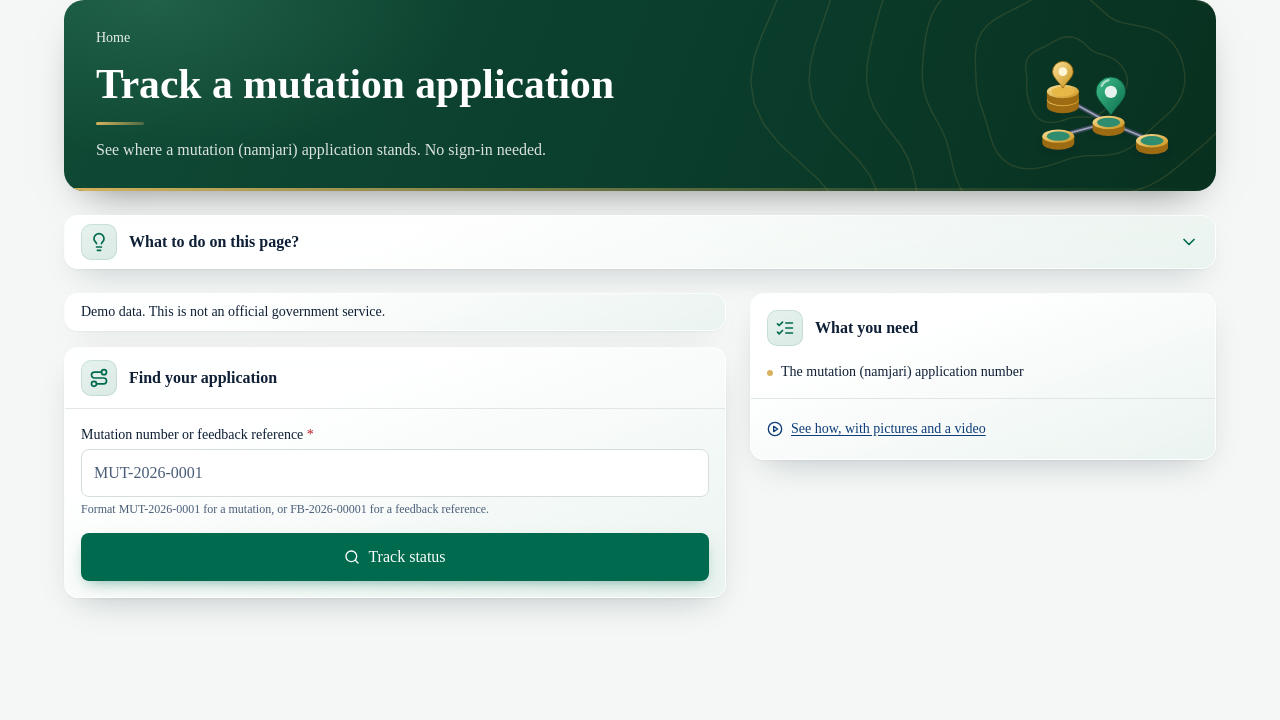
Scenario: TrackView › shows the outcome for a decided application and a skipped hearing
Type "MUT-2026-0010" into the field labelled "Mutation number or feedback reference *".
click(395, 473); type("MUT-2026-0010")  # box x1=81 y1=449 x2=709 y2=497
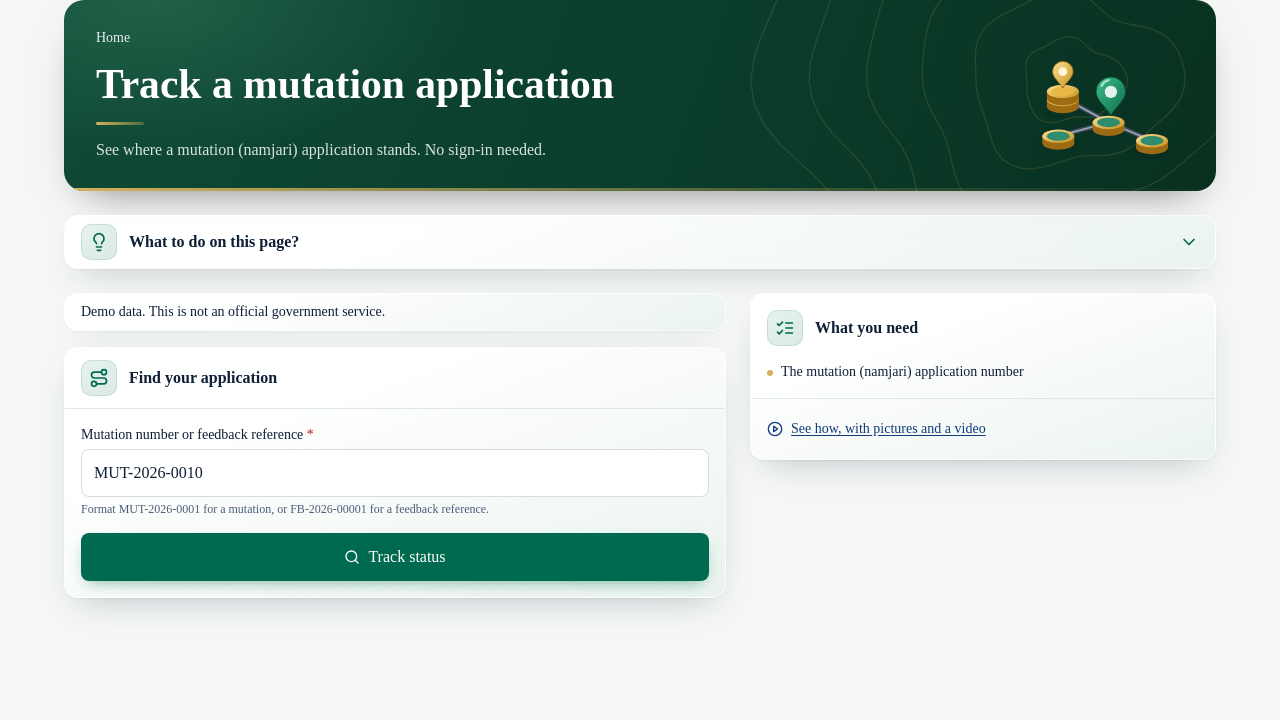
Click the button "Track status".
click(395, 557)  # box x1=81 y1=533 x2=709 y2=581
(page scrolled)
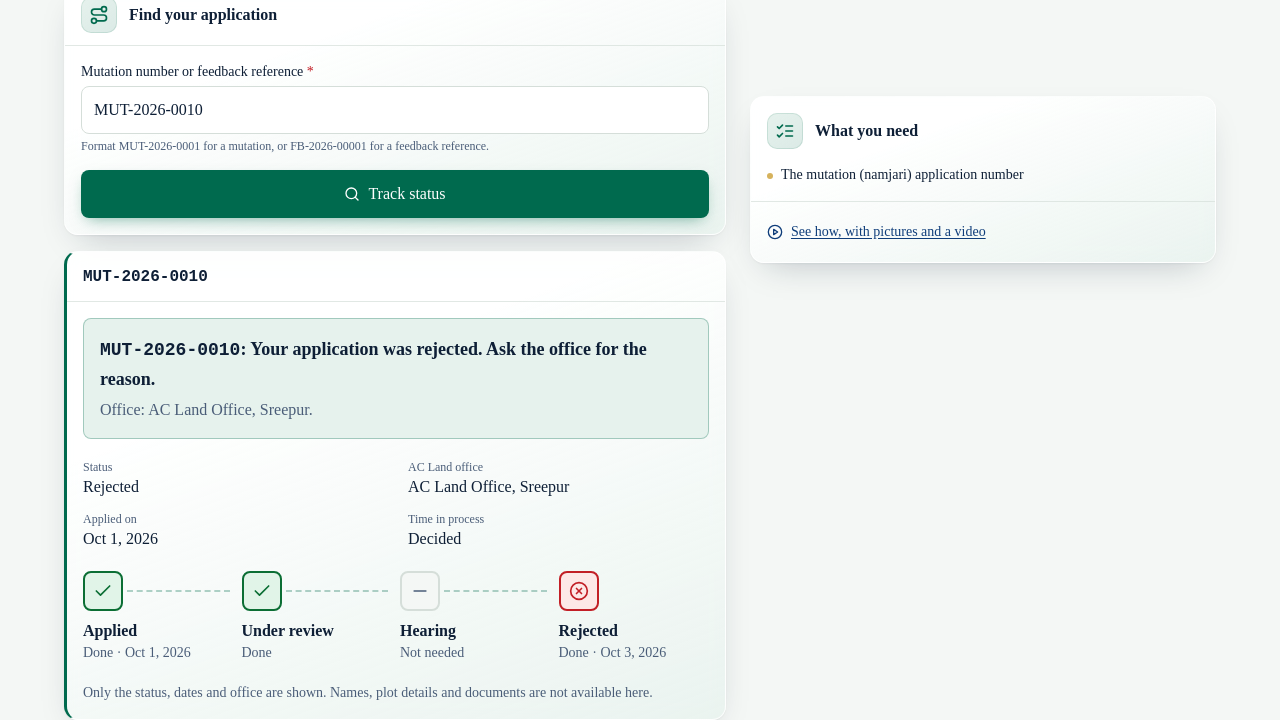
Now the element with test id "track-result" is shown, box x1=64 y1=251 x2=726 y2=719
Now the list item with test id "step-HEARING" shows "Not needed", box x1=400 y1=645 x2=464 y2=660
Now the list item with test id "step-DECIDED" shows "Rejected", box x1=558 y1=622 x2=618 y2=639
